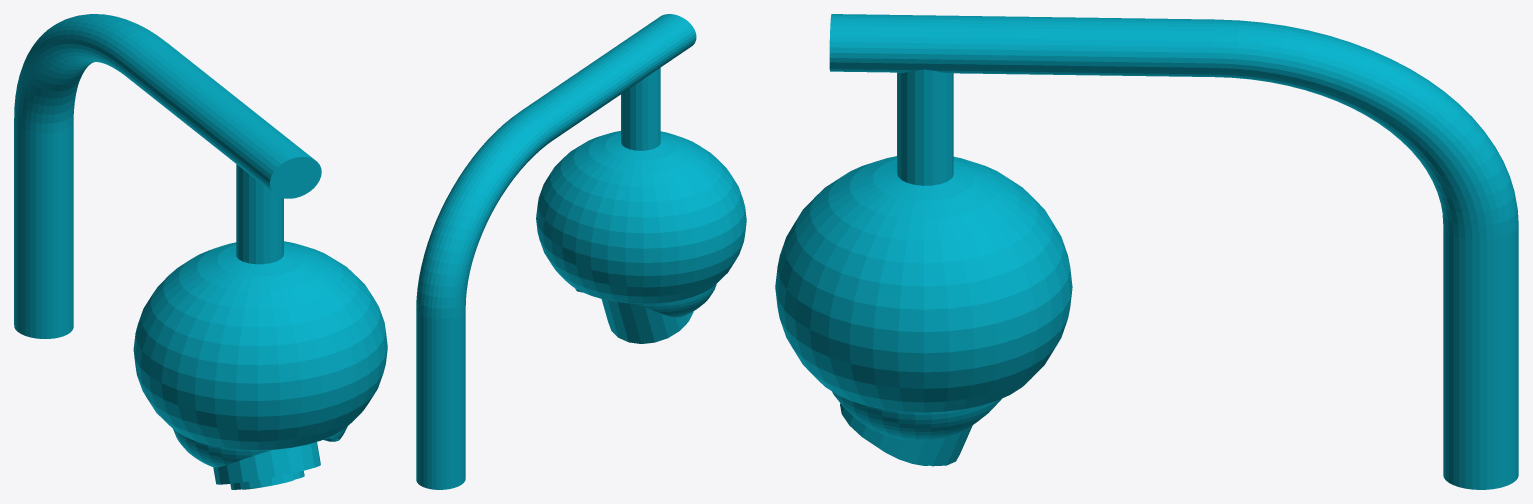
Rendered from Planned Camera - outdoor dome blue.glb.
3 views of the same model, side by side, from view 1: azimuth 30°, elevation 25°; view 2: azimuth 150°, elevation 25°; view 3: azimuth 270°, elevation 25° (orthographic). The views are drawn at different scales.
Parts seen in each view (by area): view 1: Mesh_Mesh_head_geo.001_lambert2SG.001; view 2: Mesh_Mesh_head_geo.001_lambert2SG.001; view 3: Mesh_Mesh_head_geo.001_lambert2SG.001.
Boxes of the visible parts, x1,y1,x2,y2 form: Mesh_Mesh_head_geo.001_lambert2SG.001: (14,14,387,489); Mesh_Mesh_head_geo.001_lambert2SG.001: (416,14,746,489); Mesh_Mesh_head_geo.001_lambert2SG.001: (775,14,1518,489).
Bounding box in the file's own units: 15.22 × 24.01 × 36.18.
